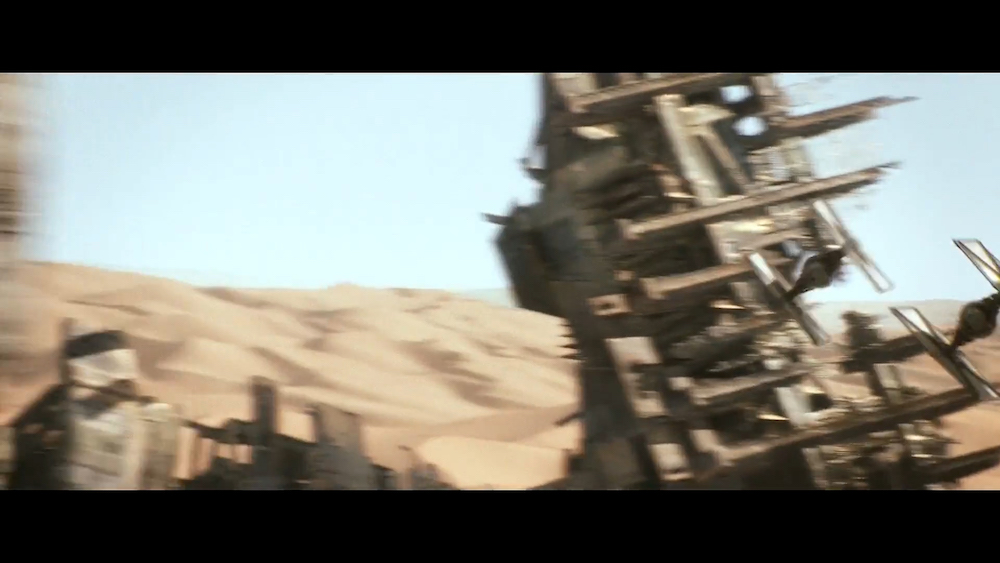Tie Fighter: (743, 195, 896, 348), (889, 238, 1000, 403)
